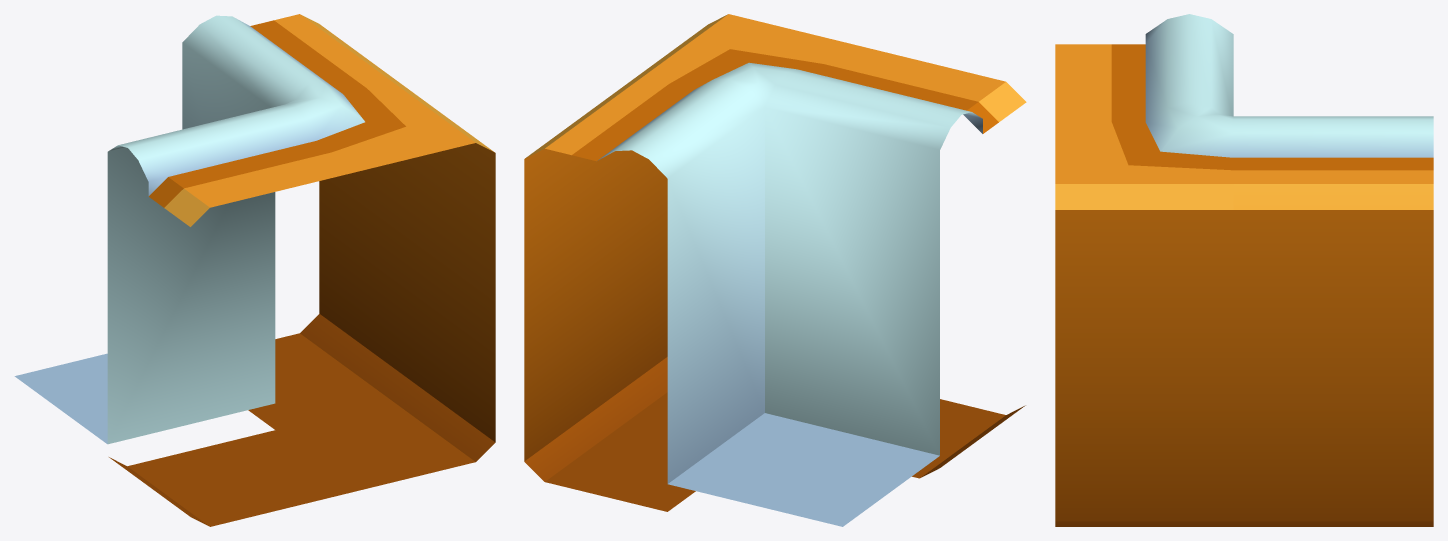
The model's file is mid_pool_2.fbx.
3 views of the same model, side by side, from view 1: azimuth 30°, elevation 25°; view 2: azimuth 150°, elevation 25°; view 3: azimuth 270°, elevation 25° (orthographic). The views are drawn at different scales.
Parts seen in each view (by area): view 1: mid_pool_2; view 2: mid_pool_2; view 3: mid_pool_2.
Boxes of the visible parts, <box> form: mid_pool_2: <box>14,14,495,526</box>; mid_pool_2: <box>524,14,1026,526</box>; mid_pool_2: <box>1055,14,1433,526</box>.
Bounding box in the file's own units: 2 × 2.12 × 2.
